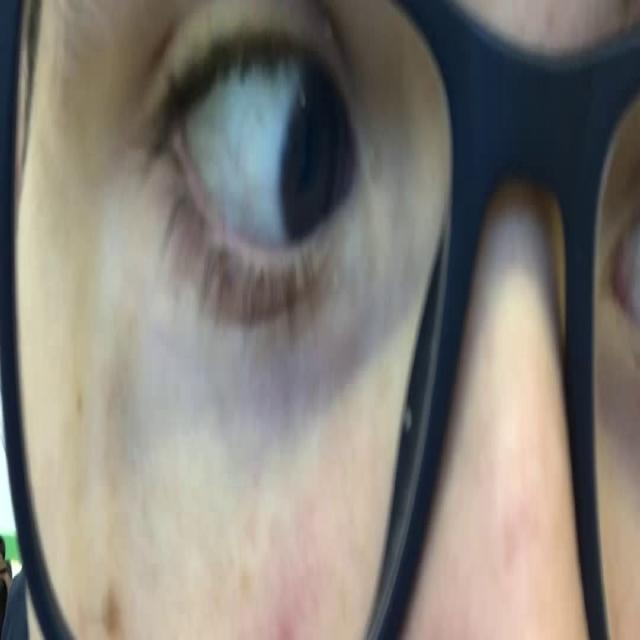eye: (132, 0, 380, 349)
gaze: (276, 68, 356, 247)
